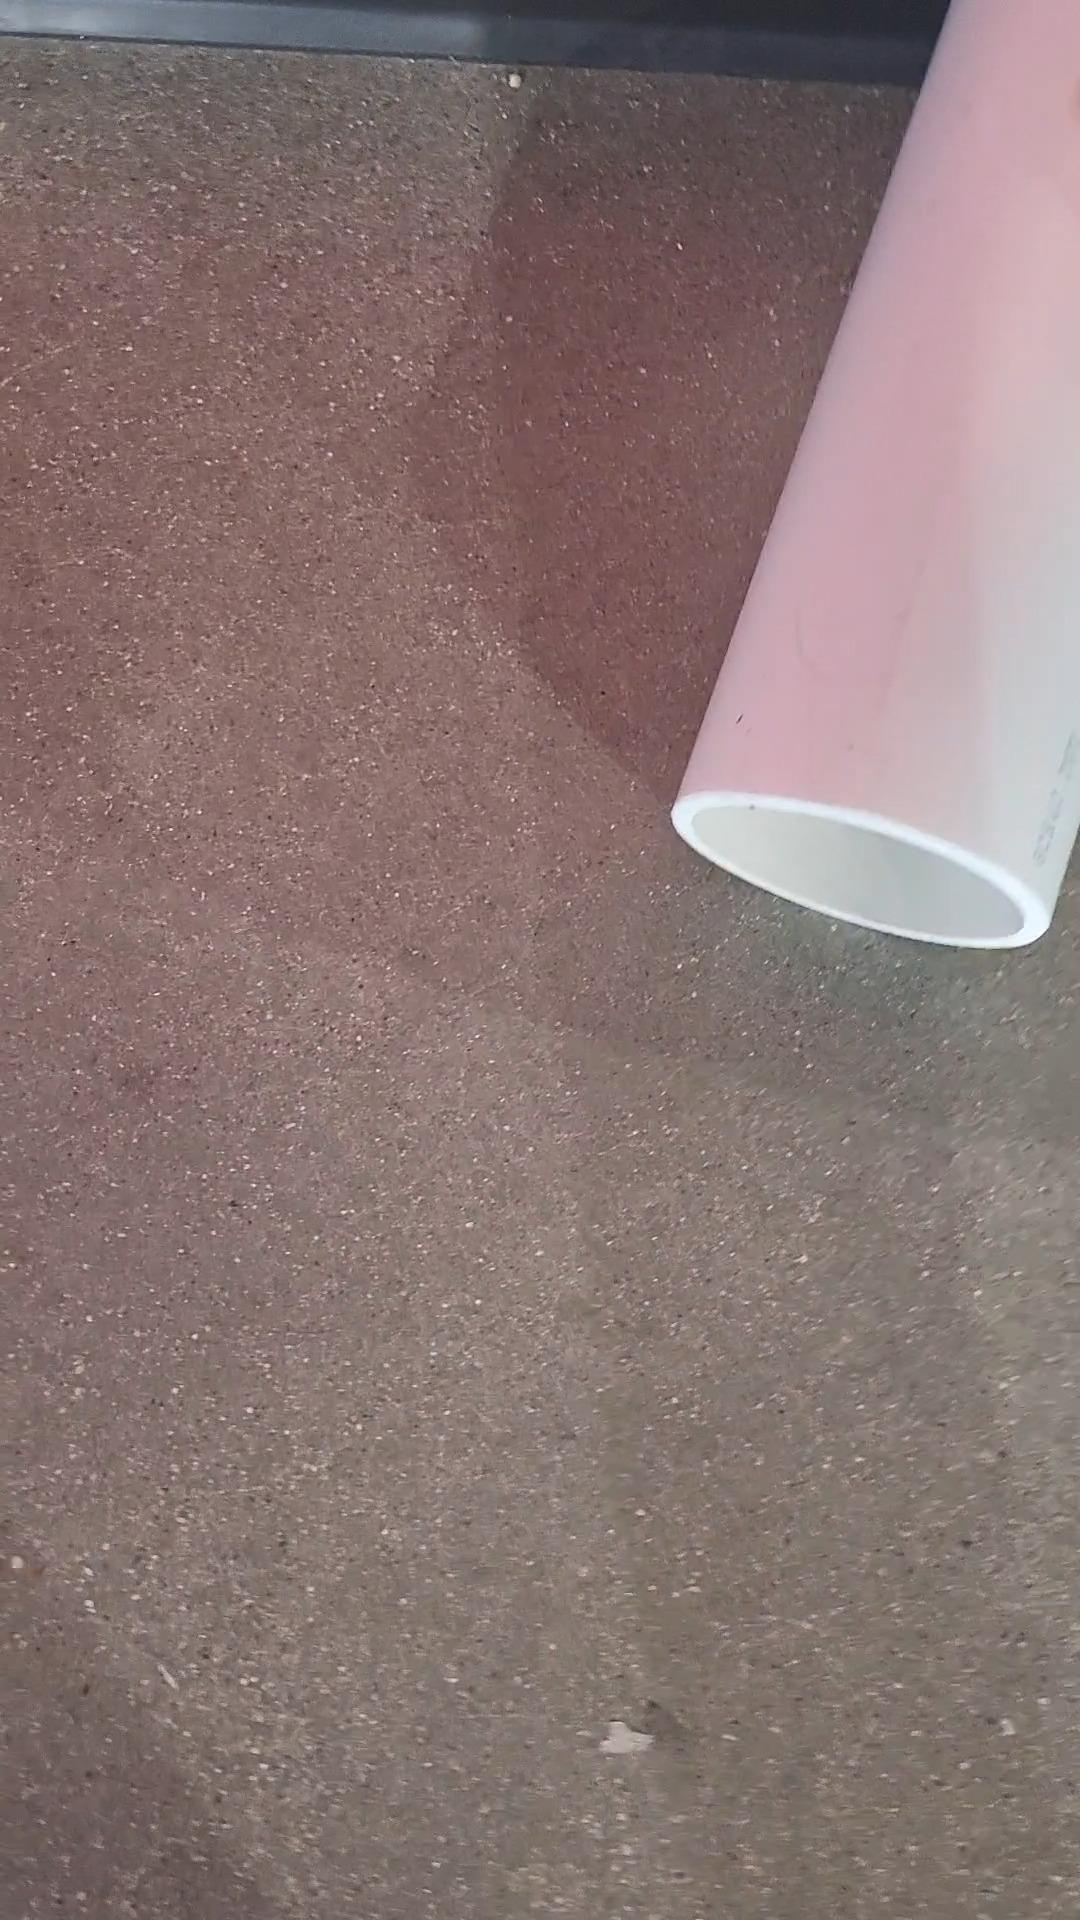coral: (661, 0, 1080, 964)
